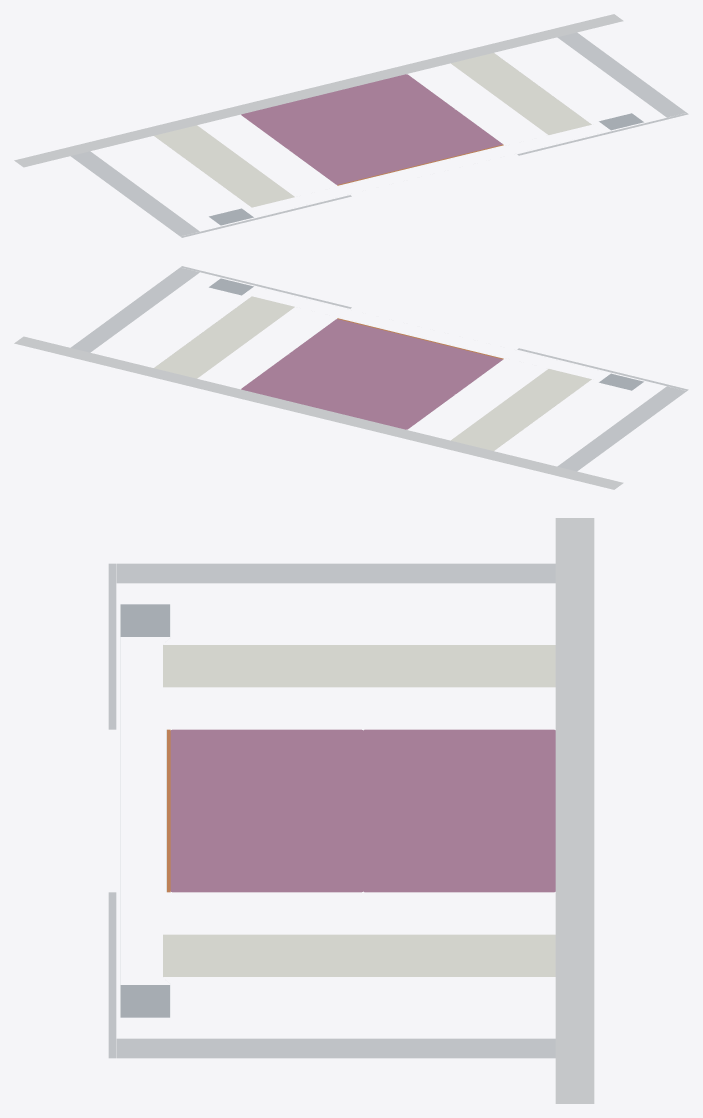
The model's file is apparatus_cover_sections.glb.
3 renders of one model, top to bottom at view 1: azimuth 30°, elevation 25°; view 2: azimuth 150°, elevation 25°; view 3: azimuth 270°, elevation 25°, orthographic. The views are drawn at different scales.
Visible parts, largest first — view 1: PE_support, foam_1, foam_2, lift_plate, radiation_shield, aperture_plate, film_spacer; view 2: PE_support, foam_1, foam_2, lift_plate, radiation_shield, aperture_plate, film_spacer; view 3: PE_support, foam_2, foam_1, lift_plate, radiation_shield, film_spacer, aperture_plate.
Boxes of the visible parts, x1,y1,x2,y2 form: PE_support: [154, 53, 591, 207]; foam_1: [241, 74, 454, 149]; foam_2: [289, 109, 502, 184]; lift_plate: [14, 14, 623, 167]; radiation_shield: [70, 32, 686, 236]; aperture_plate: [180, 113, 688, 237]; film_spacer: [209, 113, 643, 225]; PE_support: [154, 296, 591, 450]; foam_1: [241, 354, 454, 429]; foam_2: [289, 319, 502, 394]; lift_plate: [14, 336, 623, 489]; radiation_shield: [70, 267, 686, 471]; aperture_plate: [180, 266, 688, 390]; film_spacer: [209, 278, 643, 390]; PE_support: [163, 645, 555, 976]; foam_2: [170, 729, 363, 892]; foam_1: [363, 729, 555, 892]; lift_plate: [555, 518, 594, 1103]; radiation_shield: [116, 563, 555, 1058]; film_spacer: [120, 604, 169, 1017]; aperture_plate: [108, 563, 116, 1058].
Size of the model in its own units: 0.18 by 0 by 0.0631.
